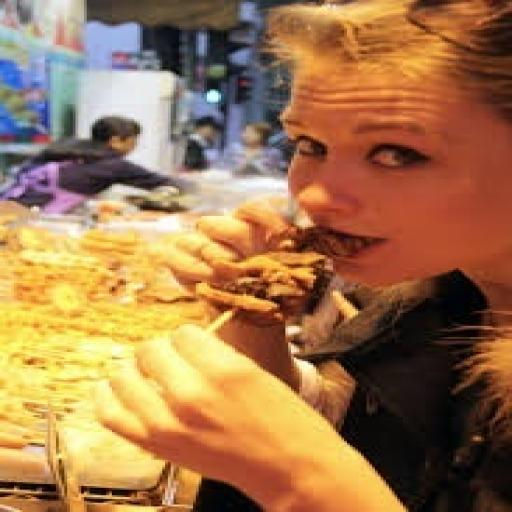eating: (87, 0, 509, 510)
